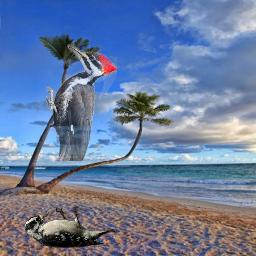Woodpecker: (46, 43, 117, 161), (25, 207, 117, 248)
